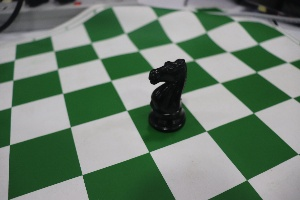black_horse: (141, 45, 194, 145)
